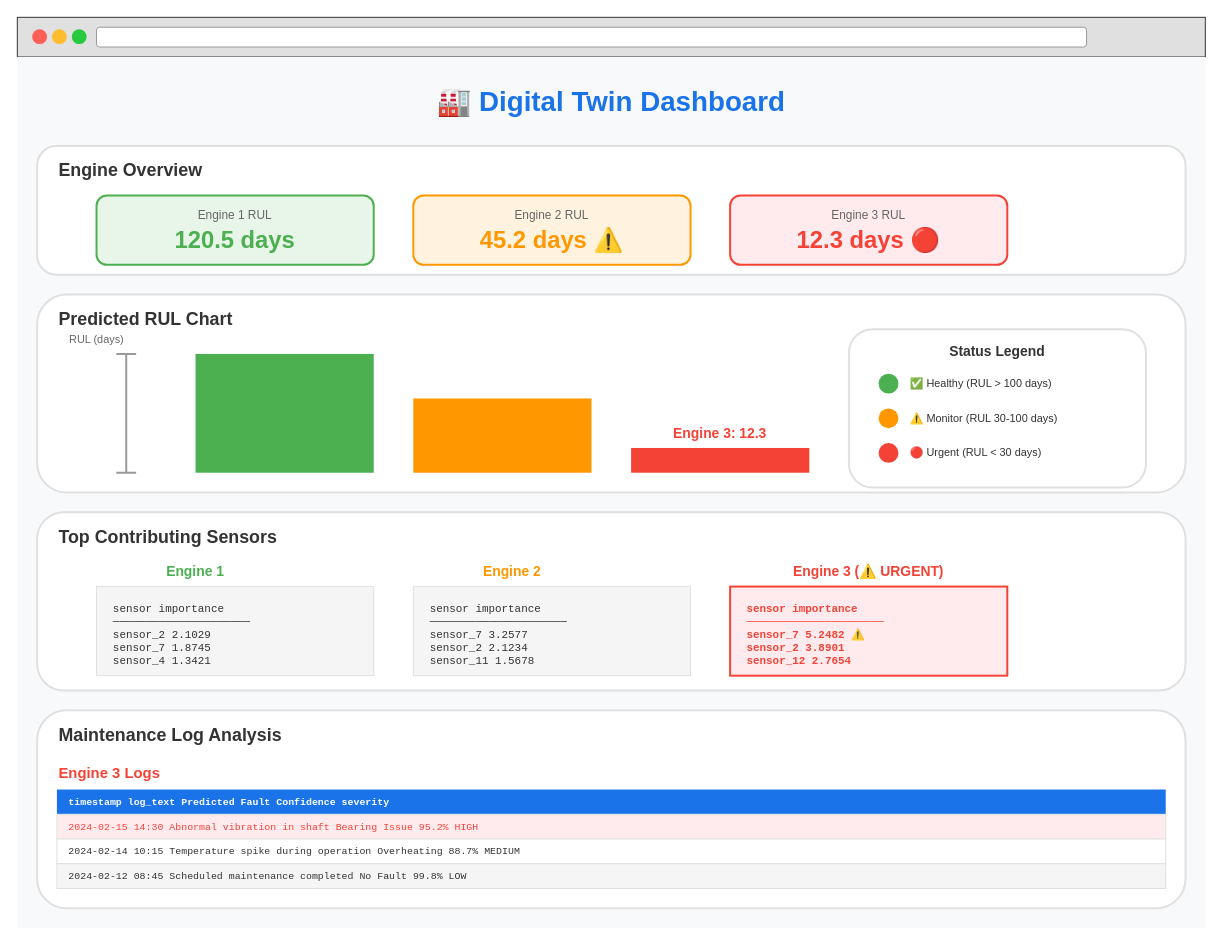
Image size: 1223x945. Some labels were removed from this diagram. Each missing label, with the box of its shape:
Engine 1 120.5: (195, 353, 373, 472)
Engine 2 45.2: (413, 398, 591, 472)
localhost:8501: (96, 26, 1087, 47)
